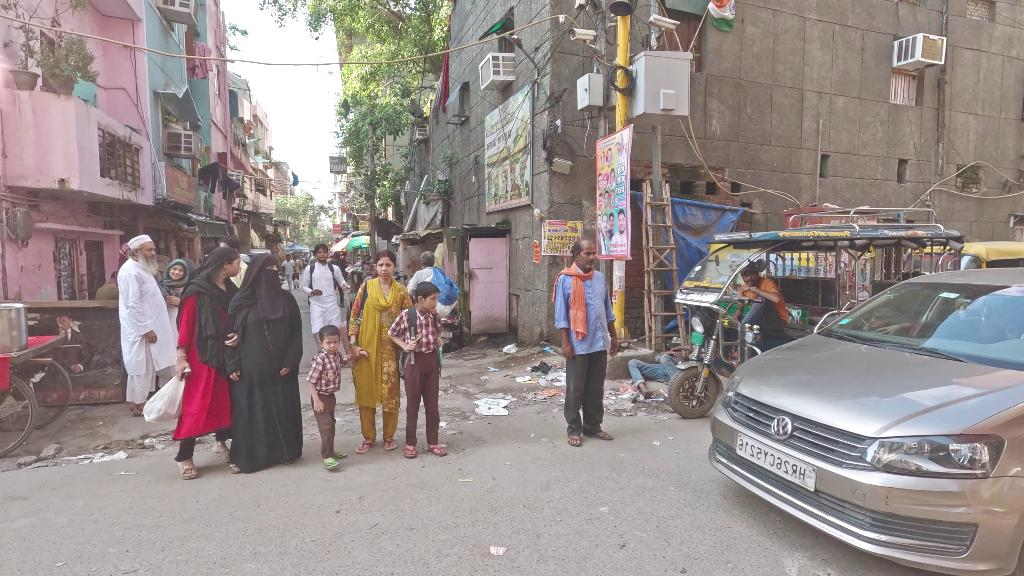garbage: (51, 443, 132, 471), (515, 357, 565, 392), (470, 389, 517, 425), (501, 333, 517, 358)
